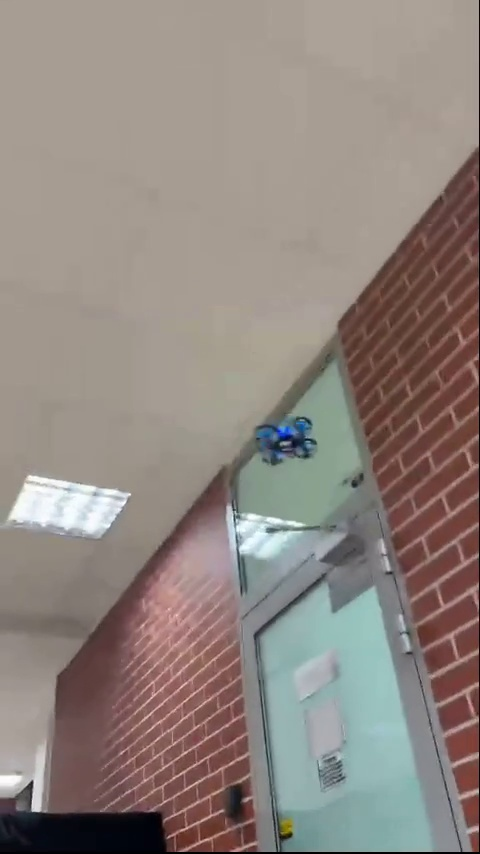drone: (257, 420, 318, 467)
